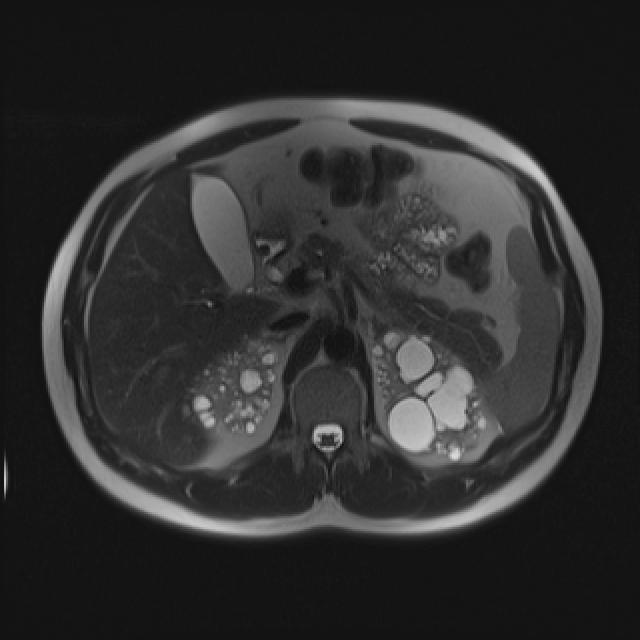sag: (177, 337, 287, 438)
sol: (372, 327, 487, 462)
